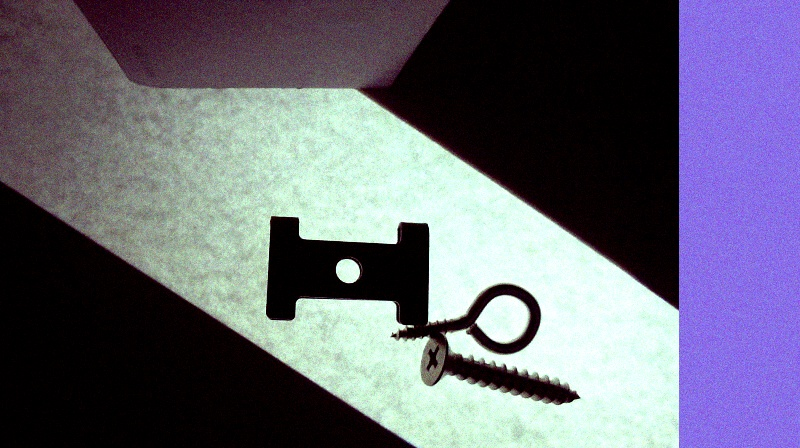O001: (390, 282, 542, 353)
O002: (262, 214, 431, 321)
S001: (419, 334, 581, 405)
